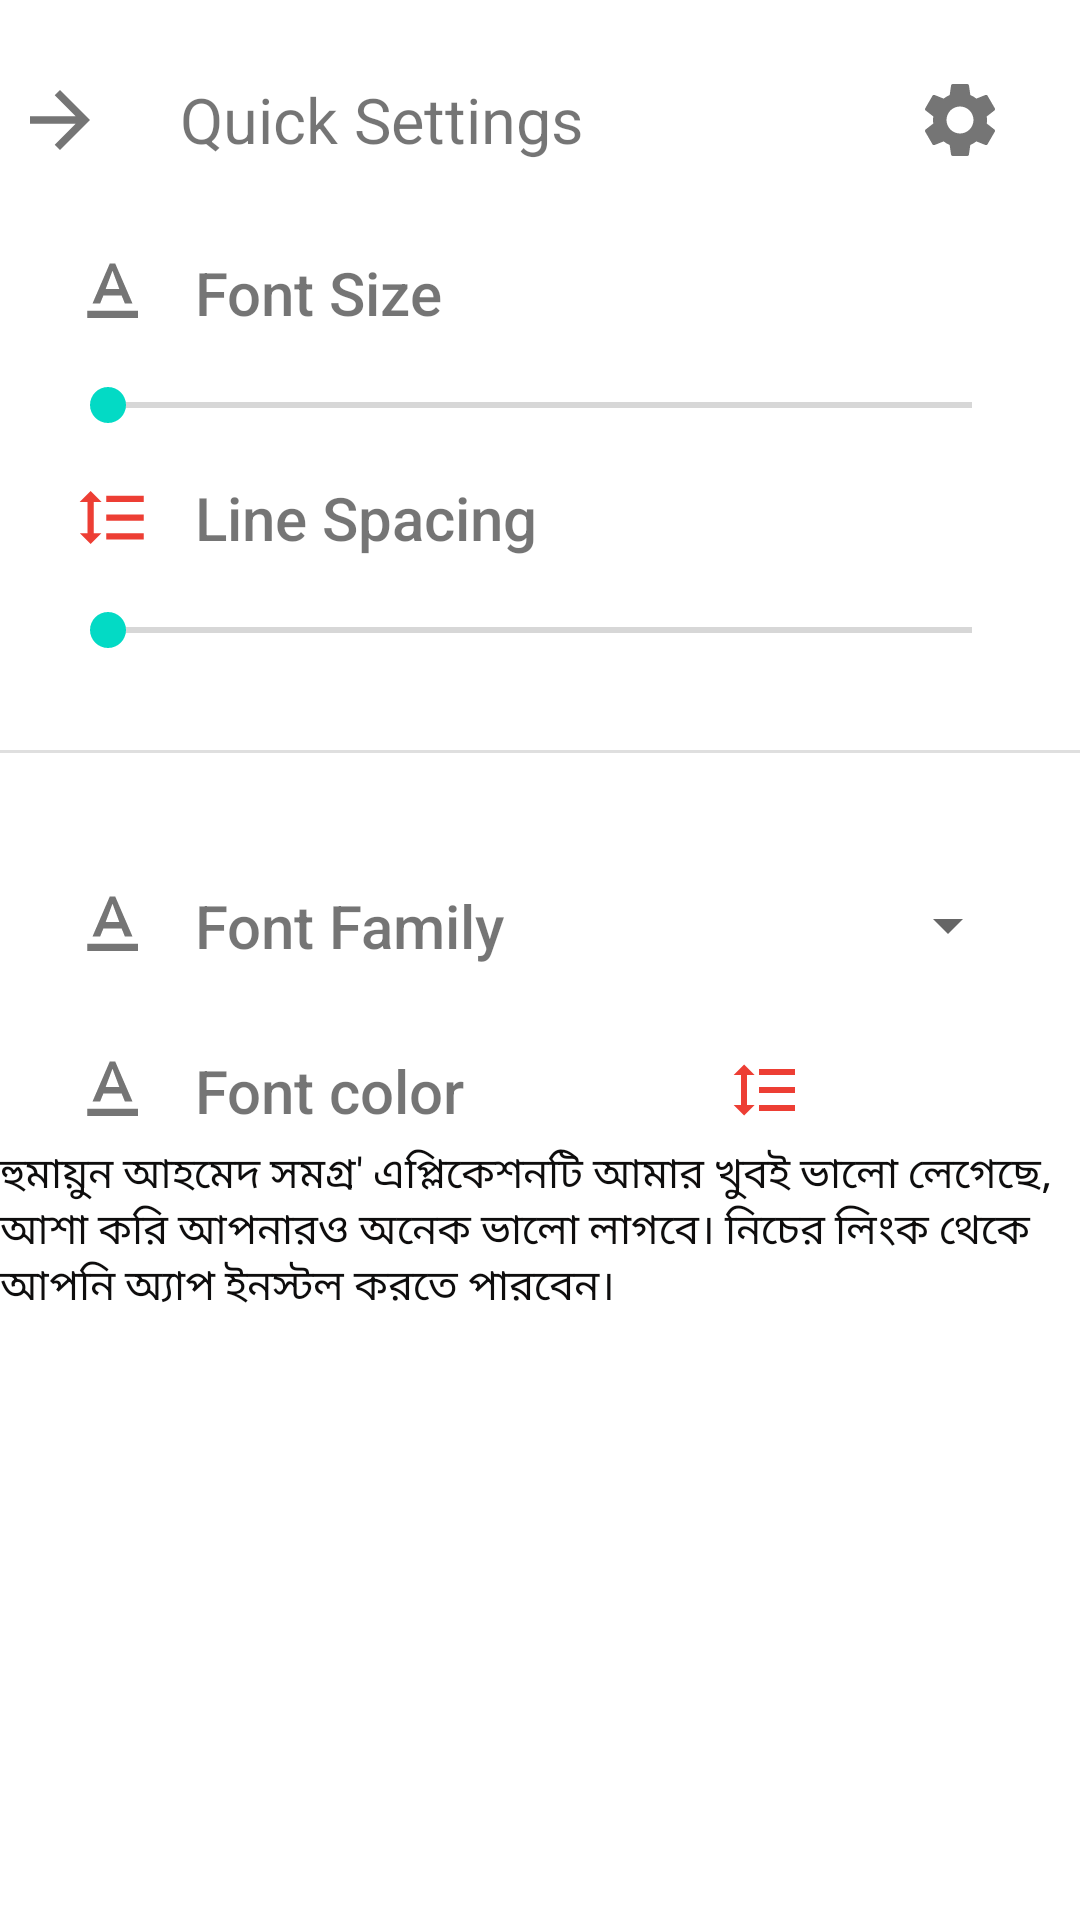

Named icons in this screenshot (1080 × 1920) and their bounding boxes, (x1, y1, x2, y2):
arrow forward: (30, 90, 90, 150)
text format: (87, 263, 138, 318), (87, 896, 138, 951), (87, 1061, 138, 1116)
